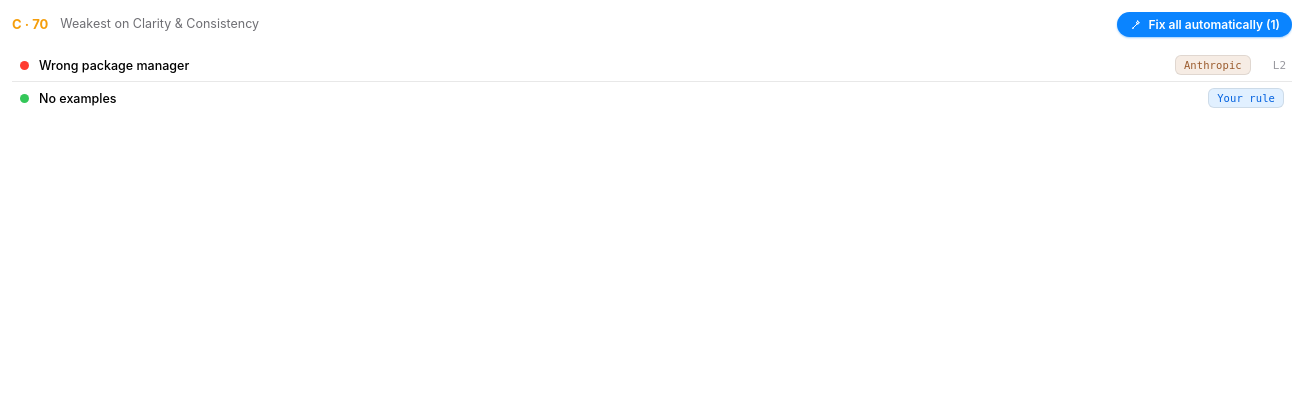
Test: Findings › keeps a finding open, with its outcome, when the fix leaves it in place
Click the button "Wrong package manager Anthropic" at (114,65), box [12,49,1259,81]
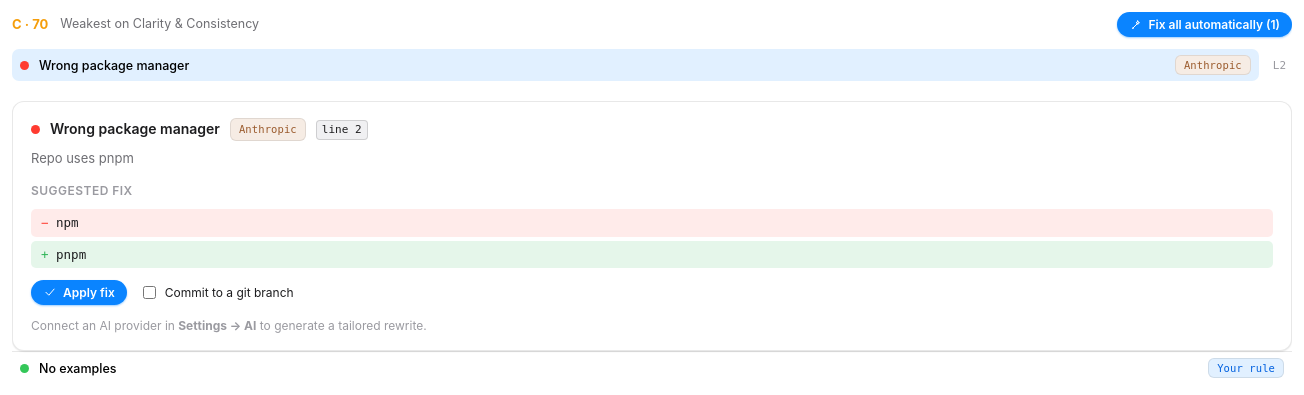
Click the button "Apply fix" at (79,292), box [31,280,127,305]
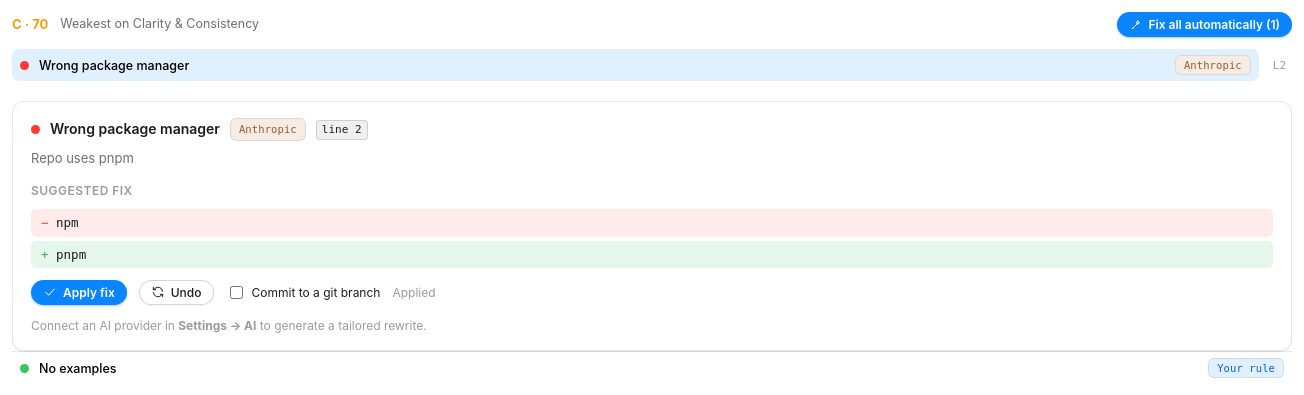
Result: the button "Wrong package manager Anthropic" is expanded at [12,49,1259,81]
Result: the text "Applied" is shown at [392,284,436,301]
Result: the button "Undo" is shown at [139,280,214,305]
